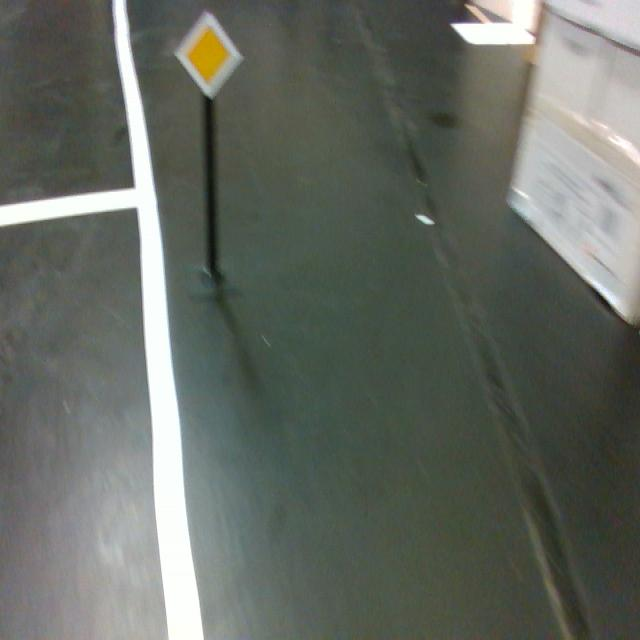priority-sign: (172, 10, 245, 103)
